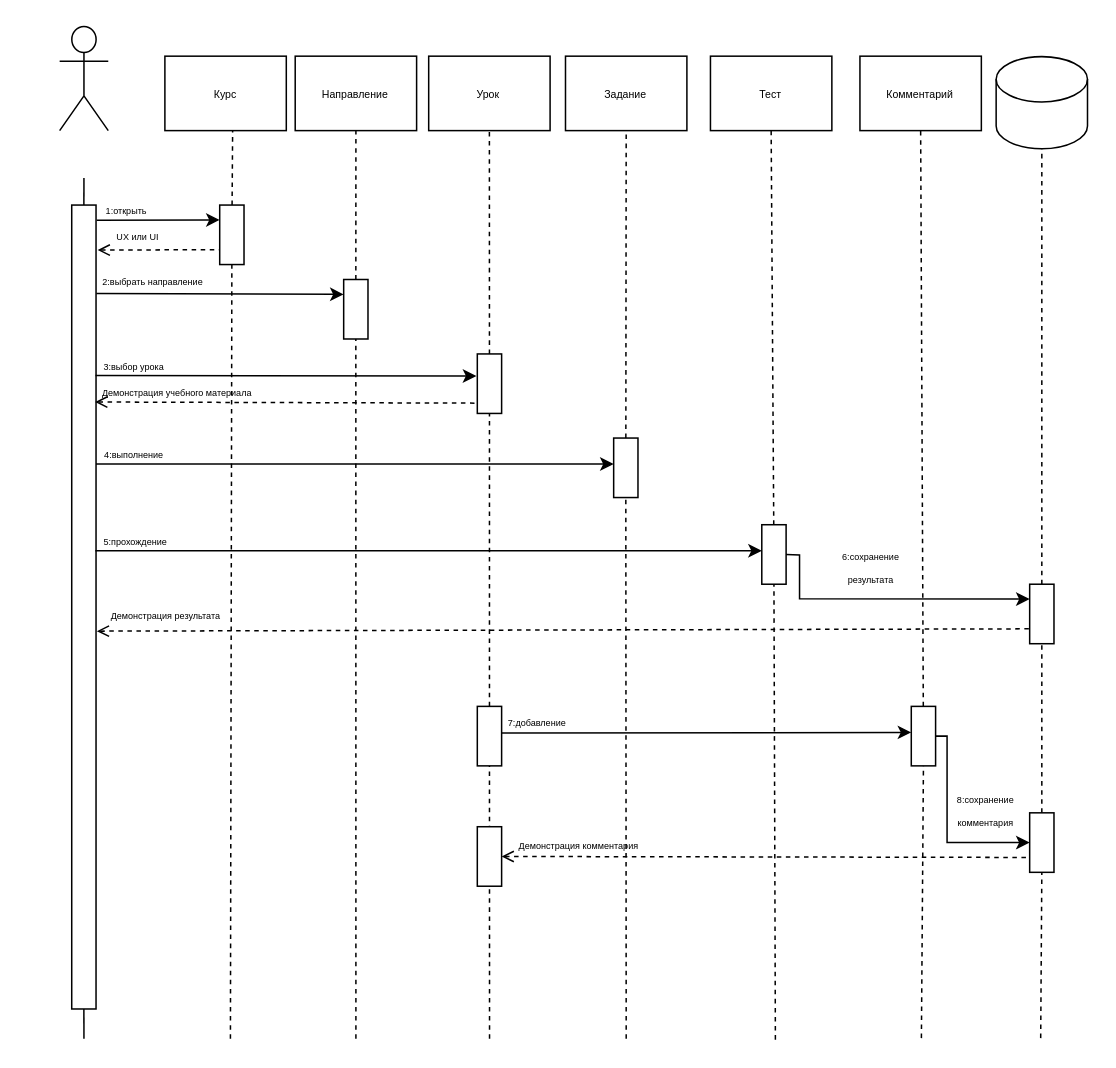
The diagram is 1116 pixels wide and 1068 high, and some of its shapes have lost their labels. Here are the shapes that lost their labels. From the top down, the box of each, then its label:
(58, 25, 108, 131): Пользователь
(995, 55, 1088, 149): Google таблица
